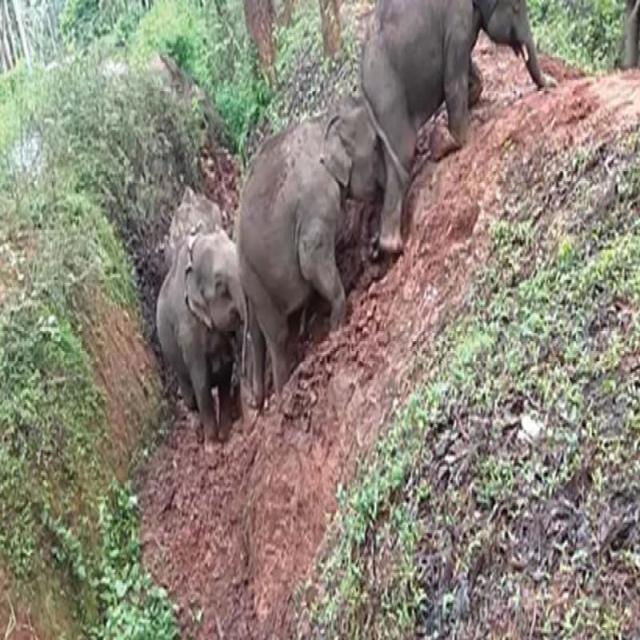Elephant: (357, 2, 575, 240), (245, 84, 392, 366), (152, 220, 254, 447)
